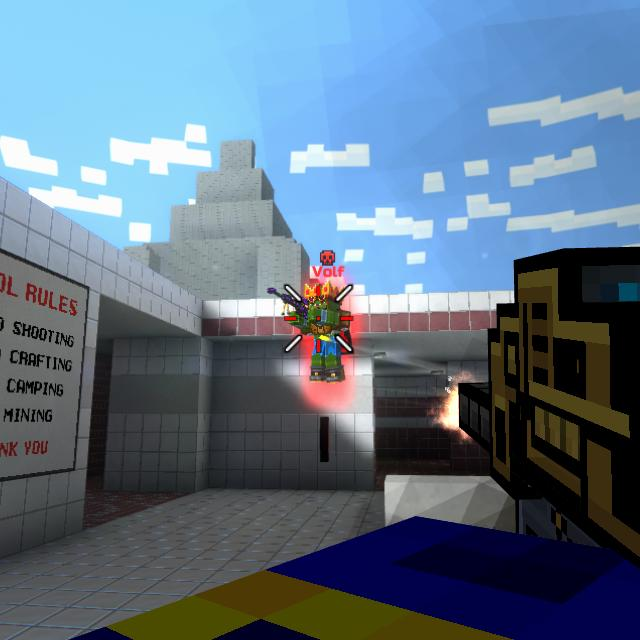Enemy: (291, 285, 355, 384)
